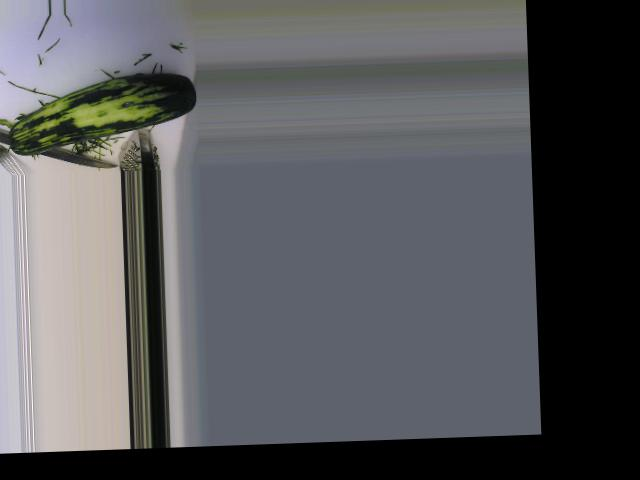cucumber: (5, 71, 197, 156)
